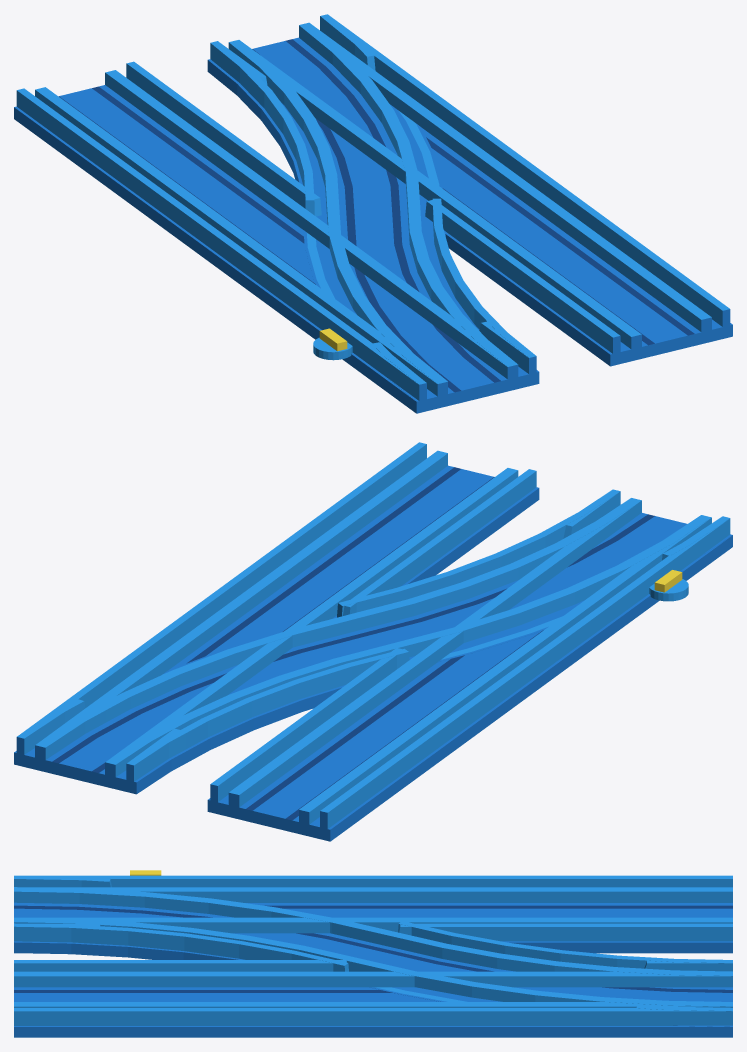
File: Track_Double_Cross_Right.fbx
3 views of the same model, one above another, from view 1: azimuth 30°, elevation 25°; view 2: azimuth 150°, elevation 25°; view 3: azimuth 270°, elevation 25° (orthographic). The views are drawn at different scales.
Visible parts, largest first — view 1: Molded blue rail from, Molded blue rail crossing, Molded blue rail to; view 2: Molded blue rail crossing, Molded blue rail from, Molded blue rail to; view 3: Molded blue rail to, Molded blue rail from, Molded blue rail crossing.
Boxes of the visible parts, x1,y1,x2,y2 form: Molded blue rail from: (14, 61, 532, 413); Molded blue rail crossing: (207, 14, 539, 401); Molded blue rail to: (221, 16, 732, 366); Molded blue rail crossing: (14, 489, 732, 794); Molded blue rail from: (207, 491, 732, 841); Molded blue rail to: (14, 442, 539, 794); Molded blue rail to: (14, 960, 732, 1037); Molded blue rail from: (14, 875, 732, 953); Molded blue rail crossing: (14, 875, 732, 1026).
Size of the model in its own units: 295 by 23.31 by 600.
